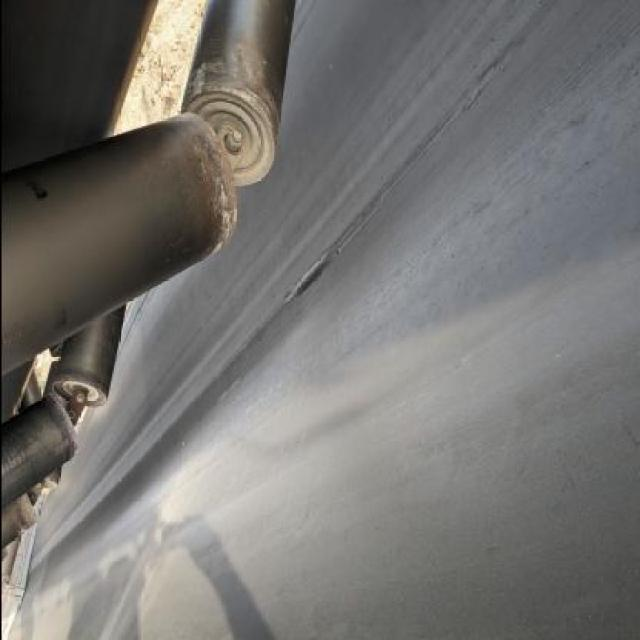Impact Damage: (288, 246, 338, 304)
